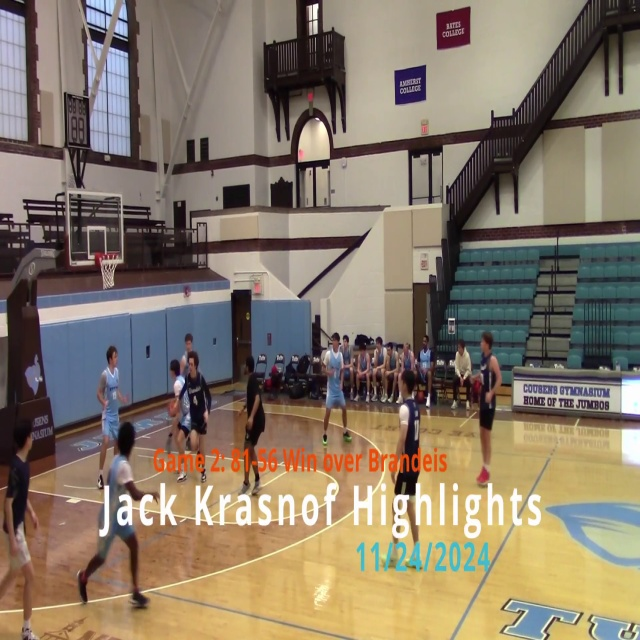Basketball: (173, 376, 185, 397), (168, 400, 179, 417)
